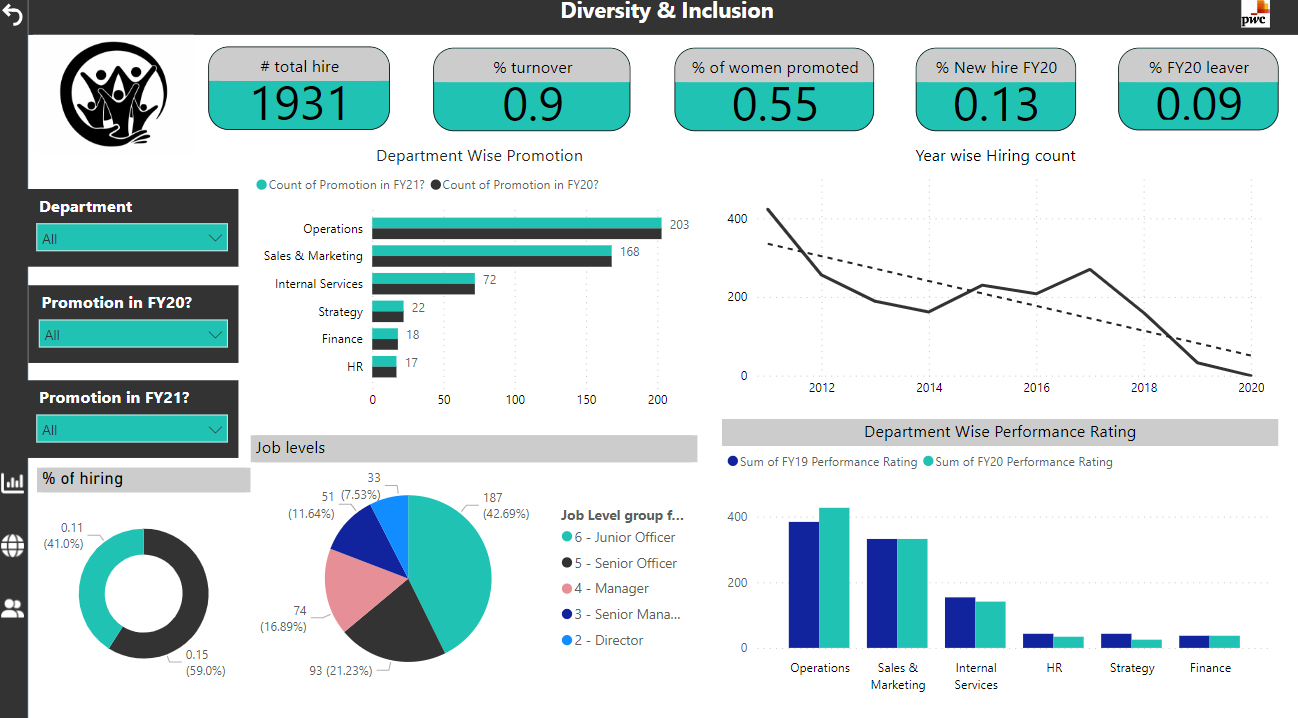

The page's visual inventory and layout, read from the dashboard file:
{"tool":"powerbi","page":{"name":"Dashboard","canvas":[1280,720],"ordinal":0},"visuals":[{"type":"shape","box":[0,0,30.6,720],"z":0},{"type":"clusteredColumnChart","title":"Department Wise Performance Rating","fields":{"Category":["Pharma Group AG.Department @01.07.2020"],"Y":["Sum(Pharma Group AG.FY19 Performance Rating)","Sum(Pharma Group AG.FY20 Performance Rating)"]},"box":[709,415.6,544,275],"z":1000},{"type":"card","title":"% FY20 leaver","fields":{"Values":["Measure.% FY20 leaver"]},"box":[1096.5,52.6,156.5,80.7],"z":2000},{"type":"card","title":"% New hire FY20","fields":{"Values":["Measure.% New hire FY20"]},"box":[881.4,52.6,173.6,81.9],"z":3000},{"type":"lineChart","title":"Year wise Hiring count","fields":{"Category":["Pharma Group AG.Last hire date.Variation.Date Hierarchy.Year"],"Y":["Sum(Pharma Group AG.Years since last hire)"]},"box":[709,145.5,535.4,257.9],"z":4000},{"type":"card","title":"# Total Employees","fields":{"Values":["Measure.# total hire"]},"box":[206.6,51.3,177.2,81.9],"z":5000},{"type":"card","title":"% of women promoted","fields":{"Values":["Measure.% of women promoted"]},"box":[662.5,52.6,195.6,81.9],"z":6000},{"type":"slicer","fields":{"Values":["Pharma Group AG.Department @01.07.2020"]},"box":[28.1,190.7,207.8,75.8],"z":7000},{"type":"card","title":"% turnover","fields":{"Values":["Measure.% turnover"]},"box":[426.6,52.6,193.1,81.9],"z":8000},{"type":"donutChart","title":"% of hiring","fields":{"Y":["Measure.% of hires men","Measure.% of hires women"]},"box":[39.1,463.3,209,227.4],"z":9000},{"type":"slicer","fields":{"Values":["Pharma Group AG.Promotion in FY20?"]},"box":[30.6,284.2,205.4,75.8],"z":10000},{"type":"slicer","fields":{"Values":["Pharma Group AG.Promotion in FY21?"]},"box":[28.1,377.7,207.8,75.8],"z":11000},{"type":"clusteredBarChart","title":"Department Wise Promotion","fields":{"Category":["Pharma Group AG.Department @01.07.2020"],"Y":["CountNonNull(Pharma Group AG.Promotion in FY21?)","CountNonNull(Pharma Group AG.Promotion in FY20?)"]},"box":[248.1,145.5,447.4,270.2],"z":12000},{"type":"pieChart","title":"Job levels","fields":{"Category":["Pharma Group AG.Job Level group for PRA"],"Y":["CountNonNull(Pharma Group AG.Job Level group for PRA)"]},"box":[248.1,431.5,436.4,259.2],"z":13000},{"type":"textbox","box":[30.6,0,1249.3,40.3],"z":14000},{"type":"image","box":[30.6,15.9,166.2,163.8],"z":15000},{"type":"actionButton","box":[0,0,30.6,40.3],"z":16000},{"type":"actionButton","box":[0,458.4,30.6,40.3],"z":17000},{"type":"actionButton","box":[0,519.5,30.6,40.3],"z":18000},{"type":"actionButton","box":[0,580.6,30.6,40.3],"z":19000},{"type":"image","box":[1180.8,0,99,37.9],"z":20000}]}

Visuals, with their boxes on the page's 1280x720 design canvas (x1, y1, x2, y2). These are canvas units, not pixel positions in the 1298x718 screenshot, which may show the page scaled, cropped or inside an application window:
shape: 0:0:31:720
"Department Wise Performance Rating" clusteredColumnChart: 709:416:1253:691
"% FY20 leaver" card: 1096:53:1253:133
"% New hire FY20" card: 881:53:1055:134
"Year wise Hiring count" lineChart: 709:146:1244:403
"# Total Employees" card: 207:51:384:133
"% of women promoted" card: 662:53:858:134
slicer - Pharma Group AG.Department @01.07.2020: 28:191:236:266
"% turnover" card: 427:53:620:134
"% of hiring" donutChart: 39:463:248:691
slicer - Pharma Group AG.Promotion in FY20?: 31:284:236:360
slicer - Pharma Group AG.Promotion in FY21?: 28:378:236:454
"Department Wise Promotion" clusteredBarChart: 248:146:696:416
"Job levels" pieChart: 248:432:684:691
textbox: 31:0:1280:40
image: 31:16:197:180
actionButton: 0:0:31:40
actionButton: 0:458:31:499
actionButton: 0:520:31:560
actionButton: 0:581:31:621
image: 1181:0:1280:38
